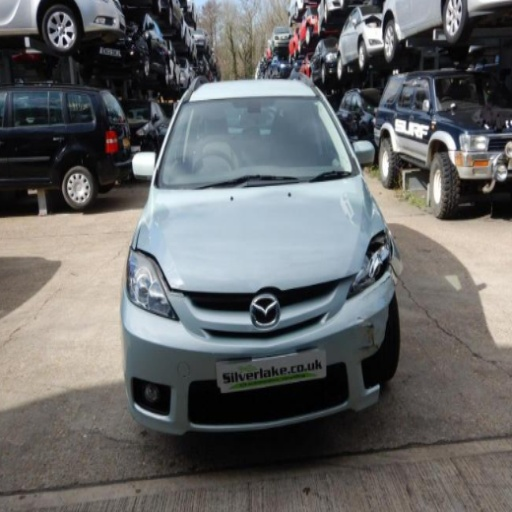rust: (352, 318, 381, 352)
